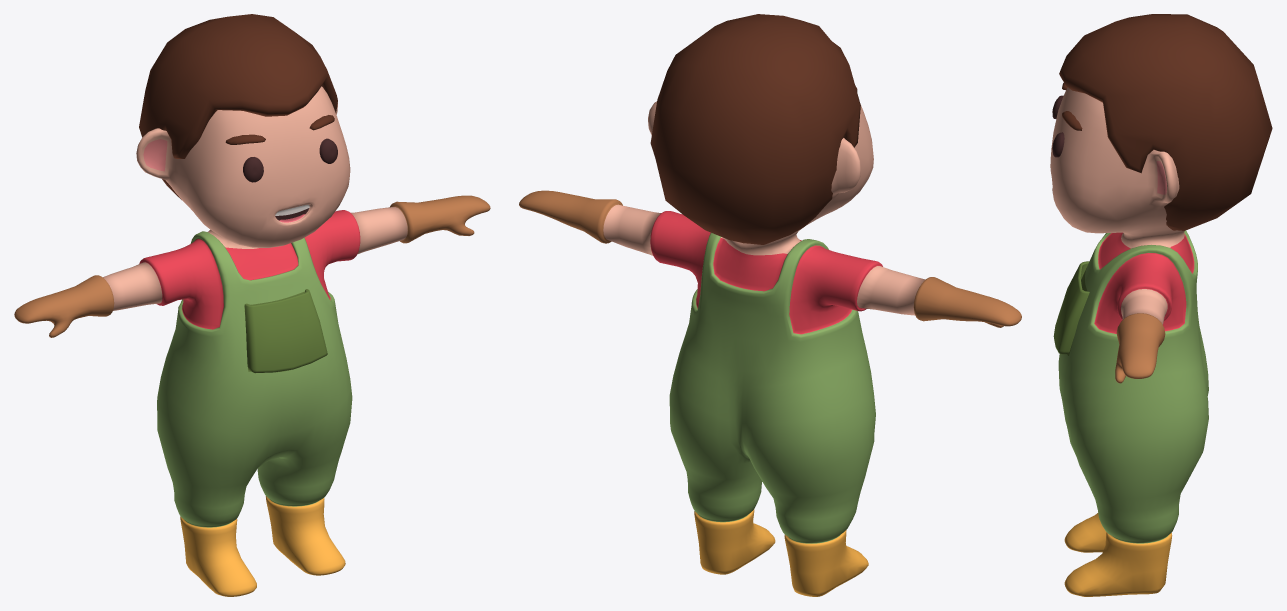
Rendered from young_male_farmer_01.fbx.
3 views of the same model, side by side, from view 1: azimuth 30°, elevation 25°; view 2: azimuth 150°, elevation 25°; view 3: azimuth 270°, elevation 25° (orthographic). The views are drawn at different scales.
Parts seen in each view (by area): view 1: young_male_farmer_01; view 2: young_male_farmer_01; view 3: young_male_farmer_01.
Part boxes in pixels (x1=…): young_male_farmer_01: x1=14, y1=14, x2=490, y2=596; young_male_farmer_01: x1=519, y1=14, x2=1021, y2=596; young_male_farmer_01: x1=1050, y1=14, x2=1272, y2=596.
Size of the model in its own units: 4.94 by 5.3 by 1.97.
